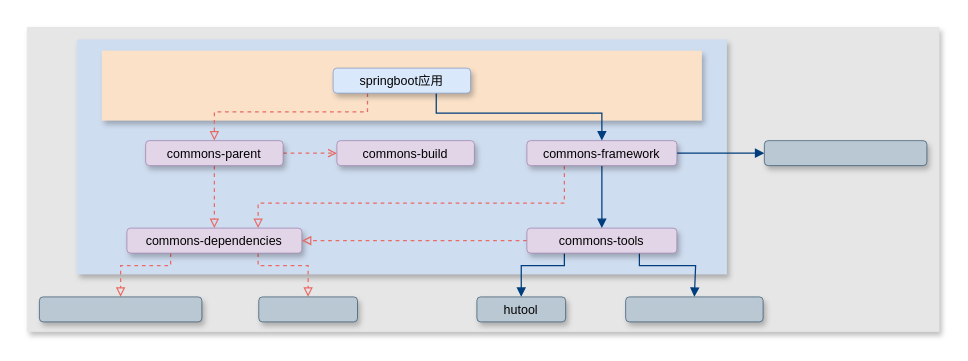
This 968x361 diagram has some shape labels left out. The shapes that lost their labels are listed below. From the top down, each one's centre as x and y in pixels, then its label:
At point (846, 154): "spring-boot-starter-web".
At point (121, 310): "spring-boot-dependencies".
At point (309, 310): "grpc-bom".
At point (695, 310): "commons-xxx".
